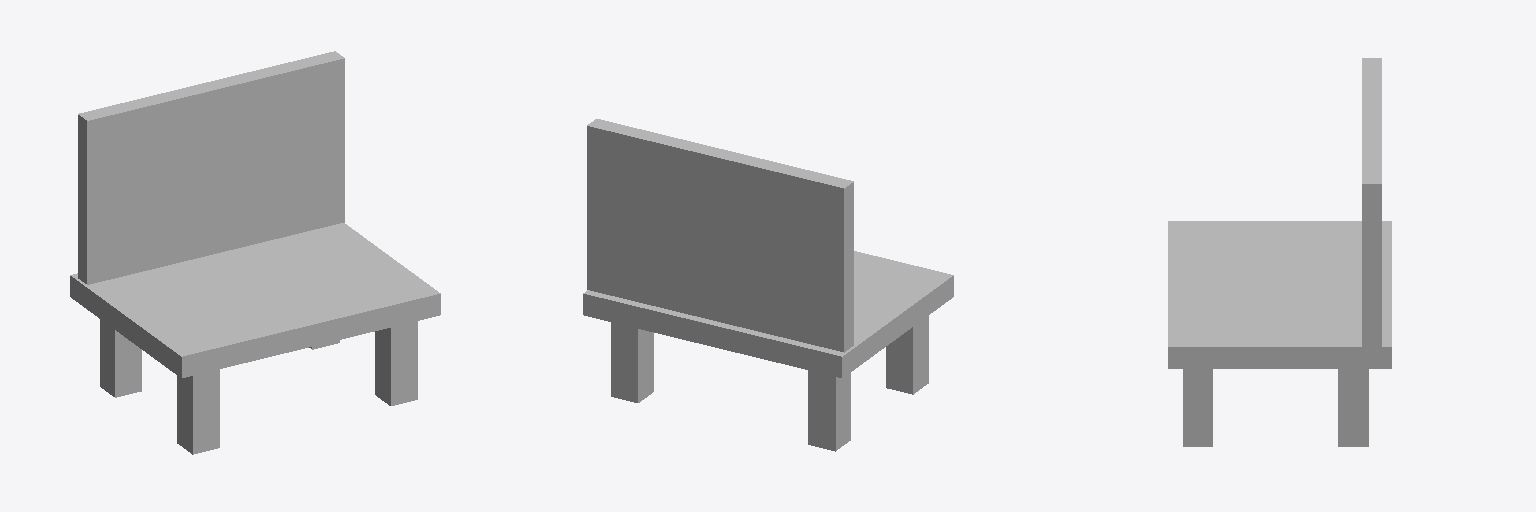
The model's file is chair.obj.
3 views of the same model, side by side, from view 1: azimuth 30°, elevation 25°; view 2: azimuth 150°, elevation 25°; view 3: azimuth 270°, elevation 25° (orthographic).
Parts seen in each view (by area): view 1: Cube.005, Cube, Cube.002, Cube.001, Cube.003; view 2: Cube.005, Cube, Cube.003, Cube.004, Cube.002; view 3: Cube, Cube.005, Cube.004, Cube.001.
Part boxes in pixels (bbox=[...]): Cube.005: bbox=[78, 51, 344, 284]; Cube: bbox=[70, 223, 440, 378]; Cube.002: bbox=[177, 369, 219, 454]; Cube.001: bbox=[375, 321, 417, 405]; Cube.003: bbox=[100, 319, 141, 397]; Cube.005: bbox=[587, 119, 853, 352]; Cube: bbox=[583, 251, 953, 378]; Cube.003: bbox=[808, 370, 850, 451]; Cube.004: bbox=[611, 322, 653, 402]; Cube.002: bbox=[886, 316, 928, 394]; Cube: bbox=[1168, 221, 1391, 368]; Cube.005: bbox=[1362, 58, 1381, 357]; Cube.004: bbox=[1338, 369, 1368, 446]; Cube.001: bbox=[1183, 369, 1212, 446].
Bounding box in the file's own units: 1.56 × 1.55 × 1.16.